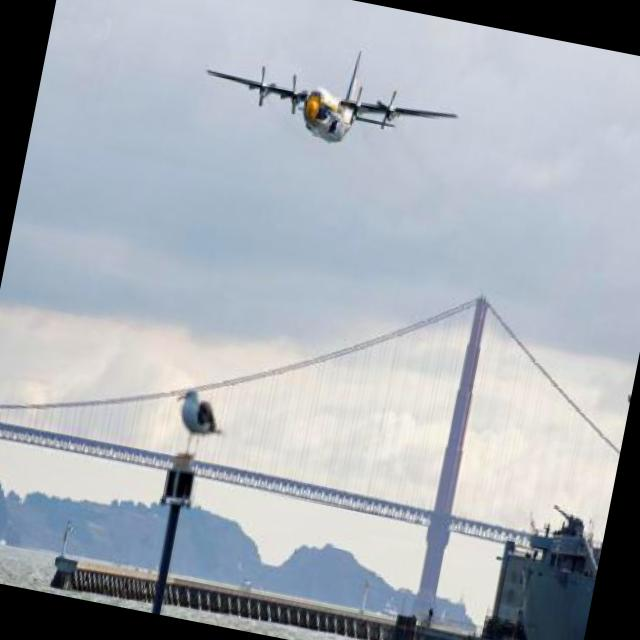Person: (425, 608, 434, 627)
